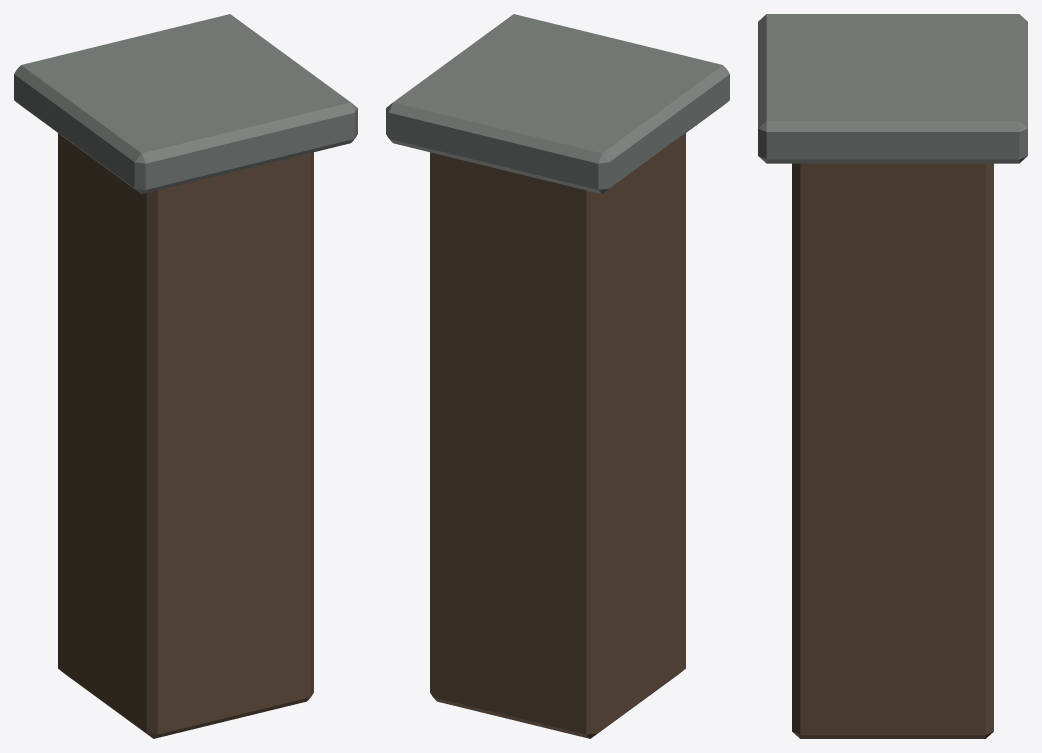
File: architecture-city-chimney.lod0.glb
The picture shows the model from 3 angles, left to right: view 1: azimuth 30°, elevation 25°; view 2: azimuth 150°, elevation 25°; view 3: azimuth 270°, elevation 25°; orthographic projection. The views are drawn at different scales.
Visible parts, largest first — view 1: architecture-city-chimney__body; view 2: architecture-city-chimney__body; view 3: architecture-city-chimney__body.
Part boxes in pixels (x1,y1,x2,y2): architecture-city-chimney__body: [14, 14, 357, 738]; architecture-city-chimney__body: [386, 14, 729, 738]; architecture-city-chimney__body: [758, 14, 1027, 738].
Bounding box in the file's own units: 0.8 × 2.07 × 0.8.
